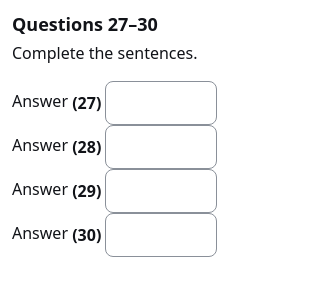
Test: typed gaps in the text › warns in Practice when an answer has more words than allowed
The image size is (332, 298).
Type "two words" into the field named "Answer 27" at (161, 103), box x1=105 y1=81 x2=217 y2=125
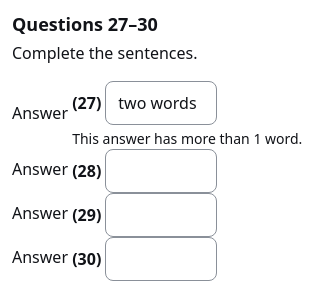
Check: the text "This answer has more than 1 word." is shown, box x1=72 y1=129 x2=302 y2=148
